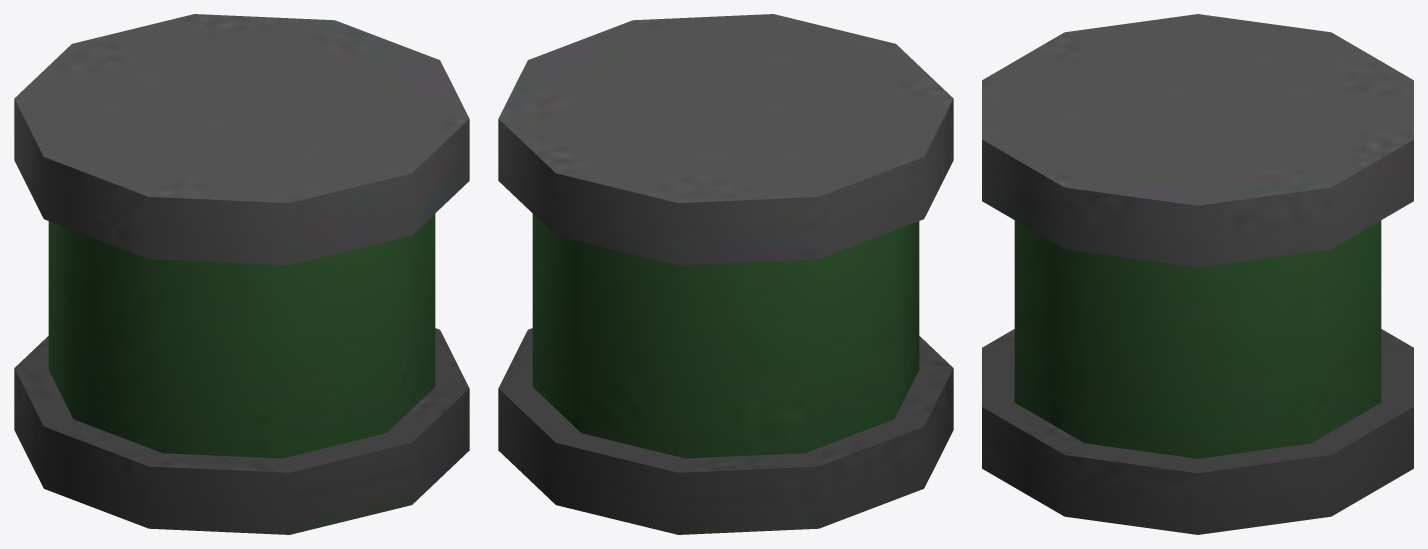
Rendered from depleted-uranium-fuel-cell.glb.
The picture shows the model from 3 angles, left to right: view 1: azimuth 30°, elevation 25°; view 2: azimuth 150°, elevation 25°; view 3: azimuth 270°, elevation 25°; orthographic projection.
Visible parts, largest first — view 1: depleted-uranium-fuel-cell; view 2: depleted-uranium-fuel-cell; view 3: depleted-uranium-fuel-cell.
Boxes of the visible parts, left/top/right/bottom form: depleted-uranium-fuel-cell: left=14, top=14, right=469, bottom=534; depleted-uranium-fuel-cell: left=498, top=14, right=953, bottom=534; depleted-uranium-fuel-cell: left=982, top=14, right=1413, bottom=534.
Bounding box in the file's own units: 0.2 × 0.16 × 0.1902.
1 material, 1 textured.
